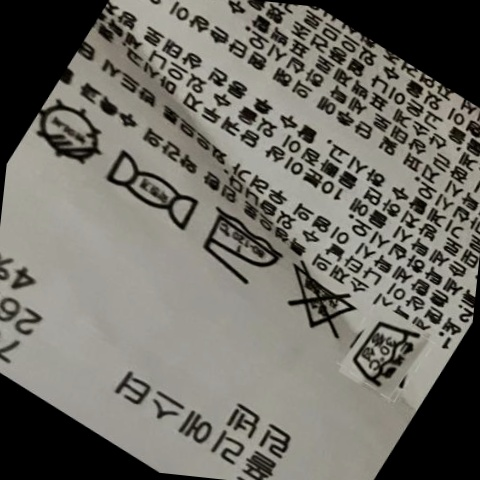DN_bleach: (286, 257, 361, 338)
dry_flat_in_shade: (36, 94, 110, 170)
hand_wash: (356, 309, 421, 398)
iron_low: (200, 201, 287, 290)
wring: (98, 143, 203, 236)
